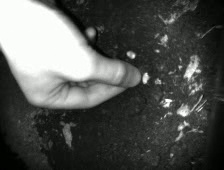corn: (139, 70, 153, 87), (122, 49, 138, 60)
